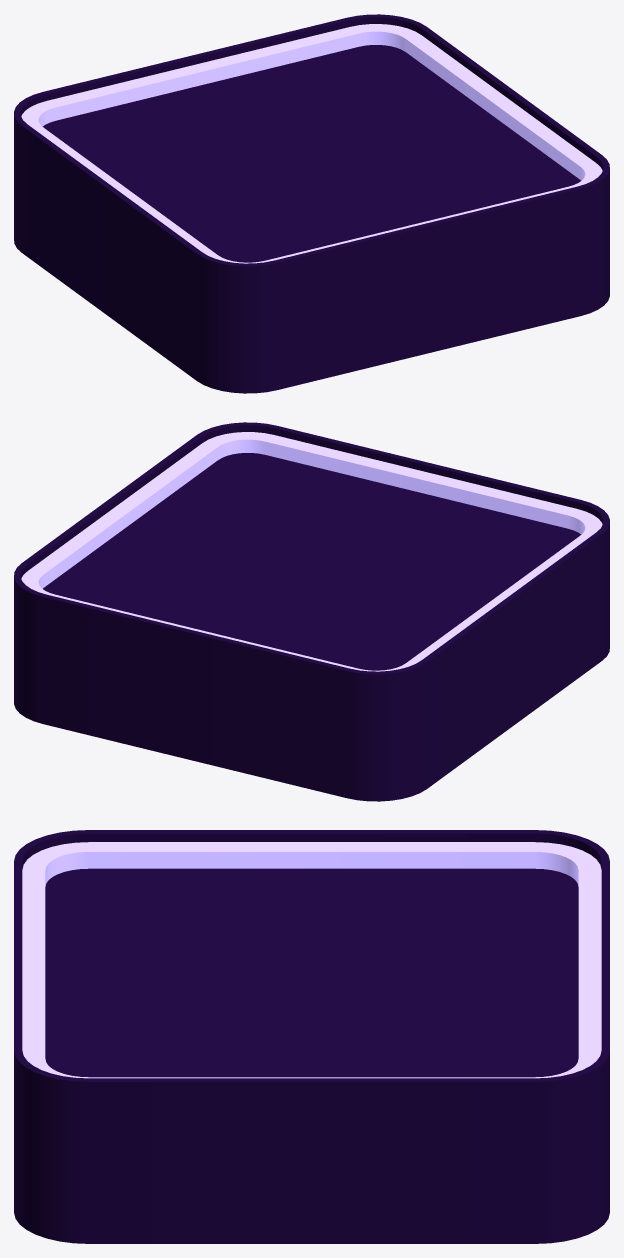
The model's file is tile.glb.
3 views of the same model, one above another, from view 1: azimuth 30°, elevation 25°; view 2: azimuth 150°, elevation 25°; view 3: azimuth 270°, elevation 25° (orthographic). The views are drawn at different scales.
Parts seen in each view (by area): view 1: TileBody, TileFace, TileLight; view 2: TileBody, TileFace, TileLight; view 3: TileFace, TileBody, TileLight.
Part boxes in pixels (x1,y1,x2,y2): TileBody: (14, 14, 609, 393); TileFace: (42, 45, 580, 262); TileLight: (21, 24, 602, 263); TileBody: (14, 422, 609, 801); TileFace: (43, 453, 581, 670); TileLight: (21, 432, 602, 671); TileFace: (45, 868, 578, 1077); TileBody: (14, 830, 609, 1243); TileLight: (22, 842, 601, 1078).
Bounding box in the file's own units: 2 × 0.6 × 2.
